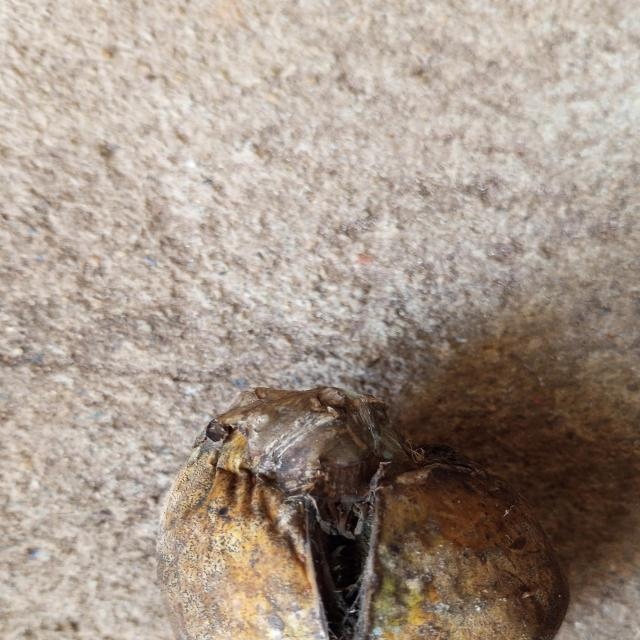damaged: (155, 393, 557, 640)
